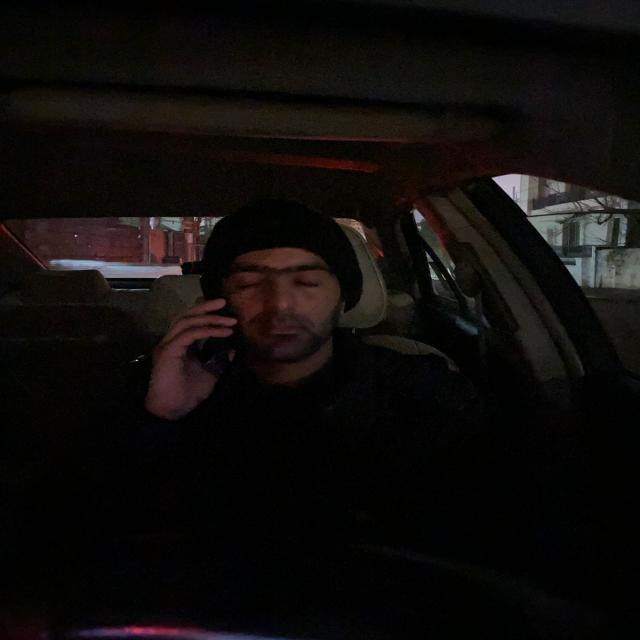drowsy: (206, 198, 364, 362)
